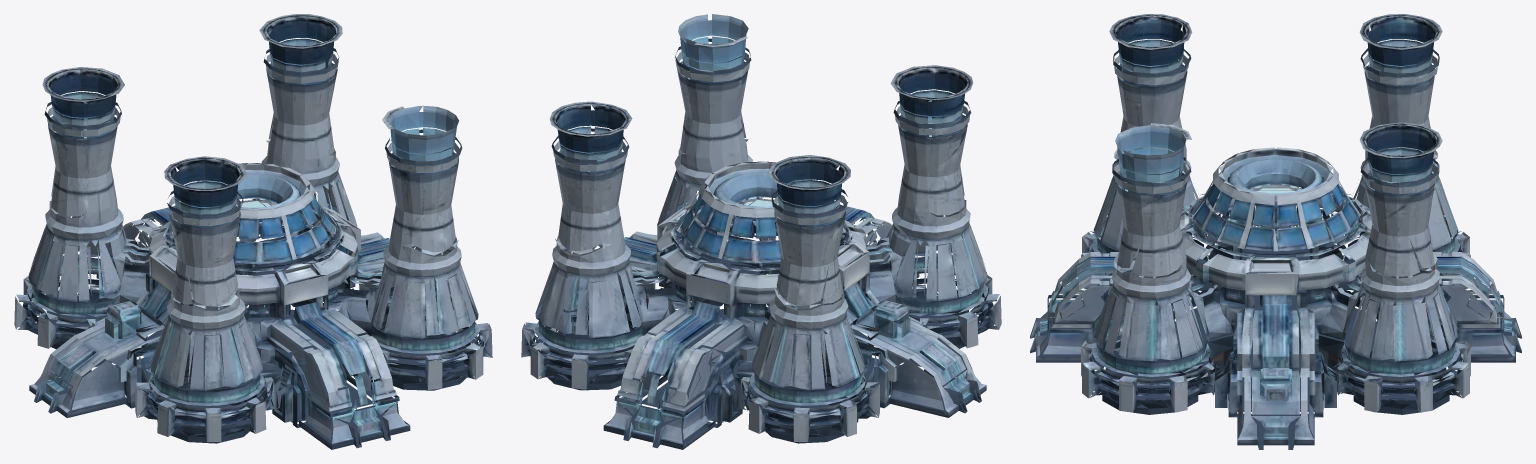
The model's file is power_core_LOD1.glb.
3 renders of one model, left to right at view 1: azimuth 30°, elevation 25°; view 2: azimuth 150°, elevation 25°; view 3: azimuth 270°, elevation 25°, orthographic. The views are drawn at different scales.
Visible parts, largest first — view 1: power_core_LOD1; view 2: power_core_LOD1; view 3: power_core_LOD1.
Boxes of the visible parts, x1,y1,x2,y2 form: power_core_LOD1: (14,14,492,449); power_core_LOD1: (521,14,1001,449); power_core_LOD1: (1030,14,1521,449).
Size of the model in its own units: 0.9947 by 0.5706 by 0.9829.
Materials: 1 (1 with a texture image).
